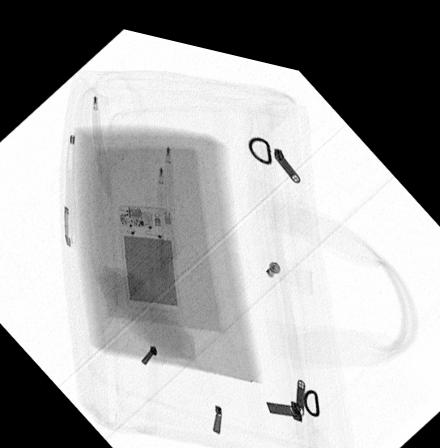Powerbank: (114, 196, 181, 304)
